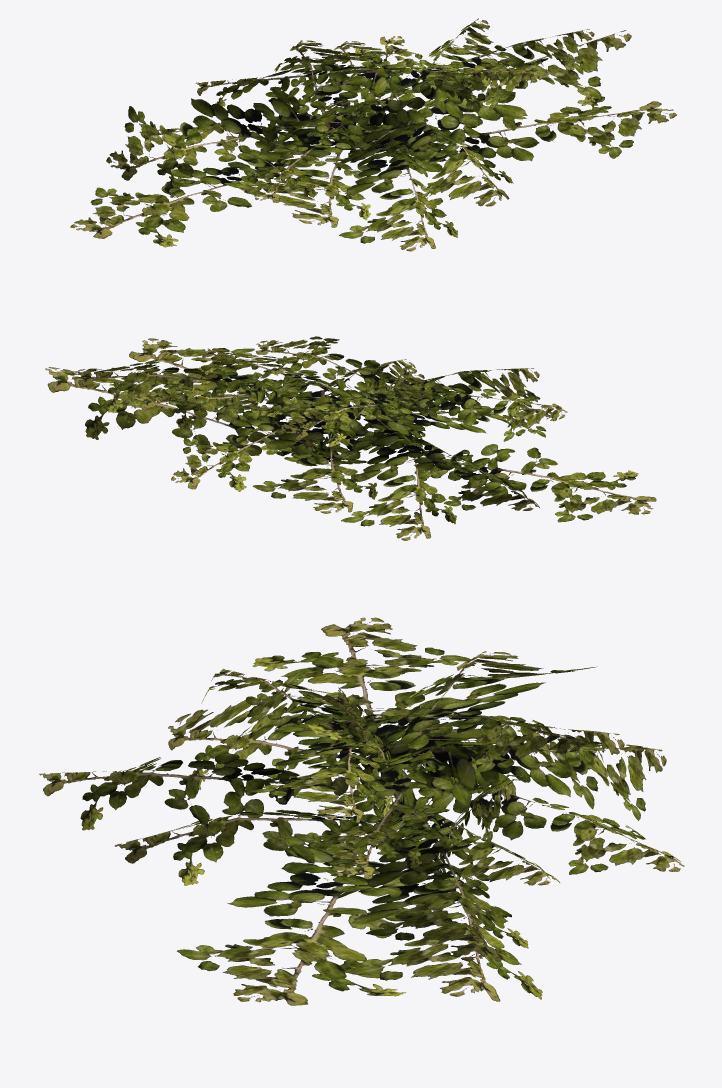
The model's file is KM_VOB_FLOWERS_ON_THE_WALL_02.glb.
3 views of the same model, one above another, from view 1: azimuth 30°, elevation 25°; view 2: azimuth 150°, elevation 25°; view 3: azimuth 270°, elevation 25° (orthographic). The views are drawn at different scales.
Visible parts, largest first — view 1: Mesh; view 2: Mesh; view 3: Mesh.
Boxes of the visible parts, left/top/right/bottom form: Mesh: left=70, top=18, right=676, bottom=251; Mesh: left=45, top=336, right=656, bottom=540; Mesh: left=39, top=617, right=684, bottom=1005.
Size of the model in its own units: 1.22 by 0.2499 by 0.8158.
Materials: 1 (1 with a texture image).
